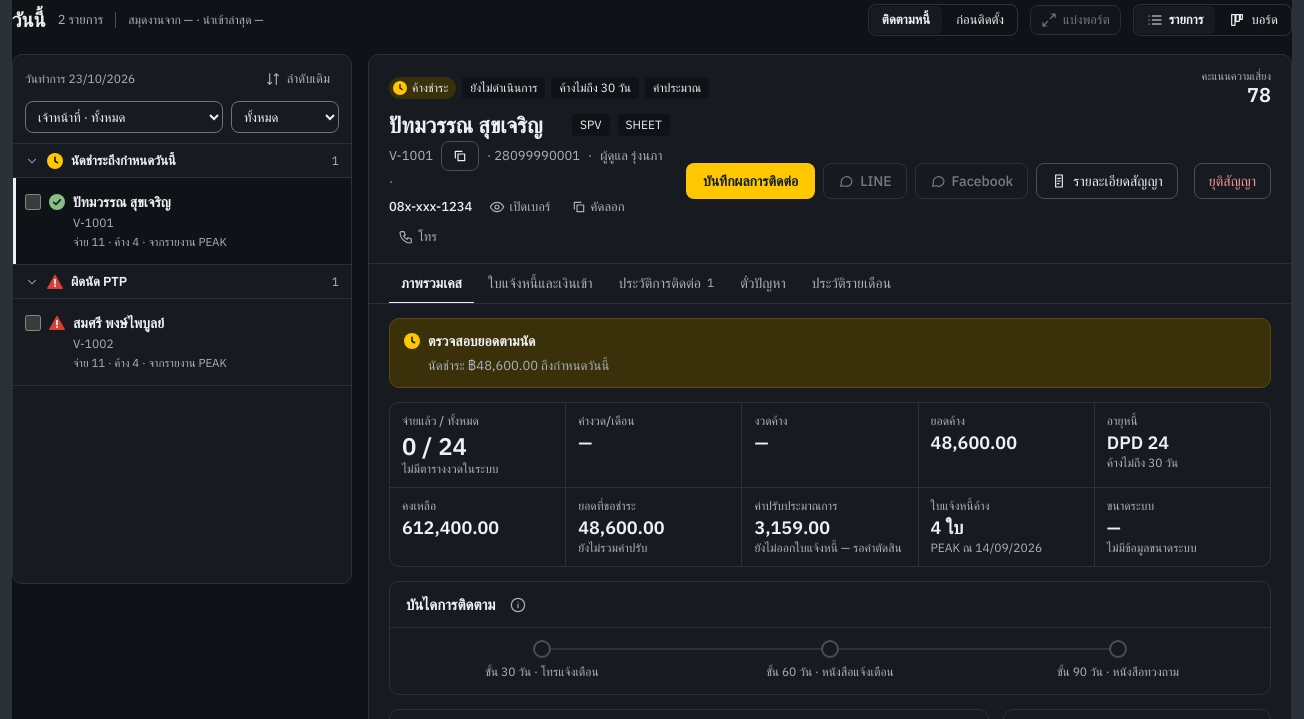
Test: Today bulk assignment (F10) › offers the random deal to a supervisor disabled, with its reason
Expected: the text "นัดชำระถึงกำหนดวันนี้" is shown, [71,152,176,168]
Click the checkbox named "เลือก ปัทมวรรณ สุขเจริญ" at x=33, y=202, box [25,194,41,210]
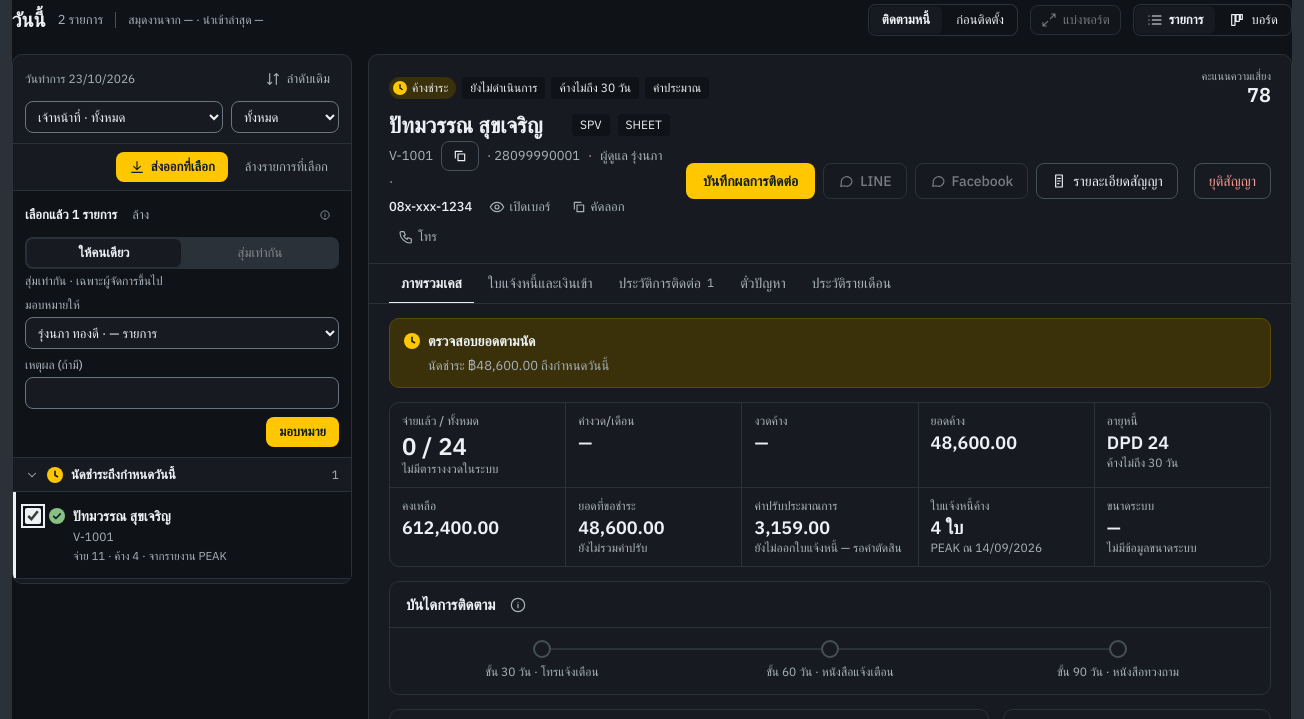
Now the radio button labelled "สุ่มเท่ากัน" is disabled, box [183,239,337,267]
Now the text "สุ่มเท่ากัน · เฉพาะผู้จัดการขึ้นไป" is shown, box [25,273,162,288]
# the bar's own clear drops the ticks and the bar with them
Click the button "ล้าง" at x=141, y=215, box [123,201,158,229]
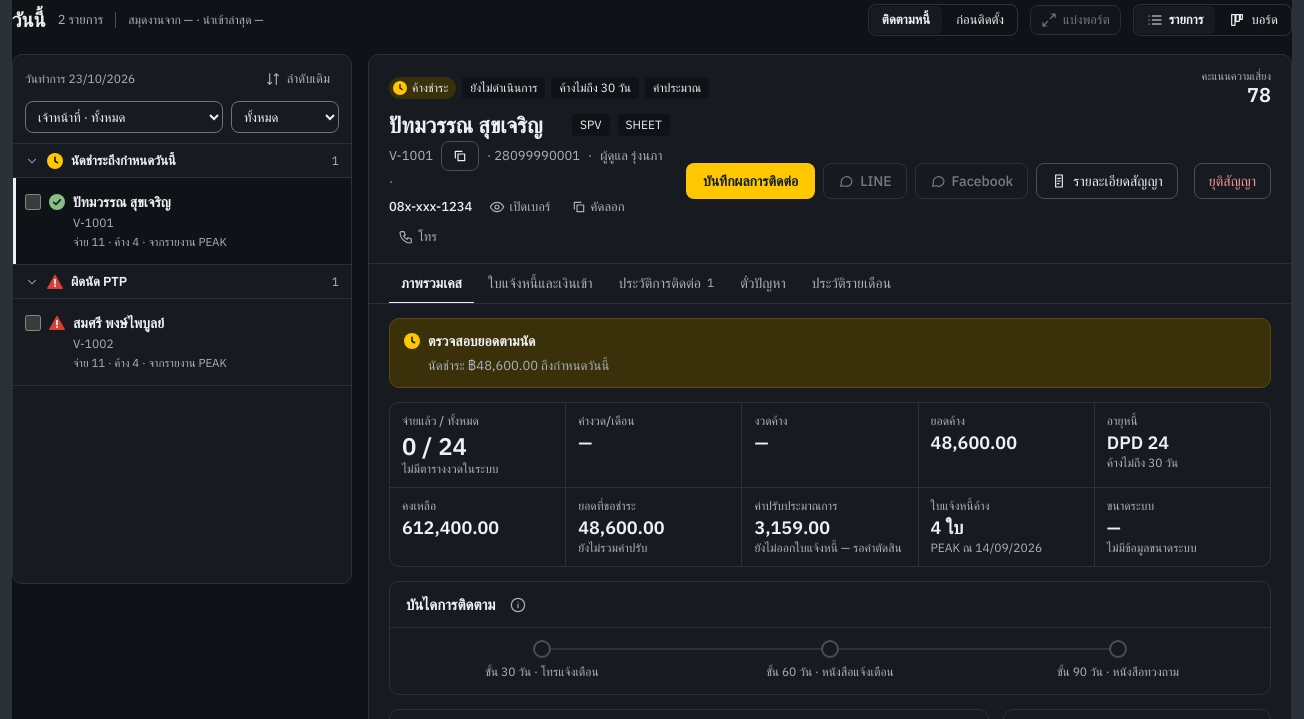
Now the text "เลือกแล้ว 1 รายการ" is gone
